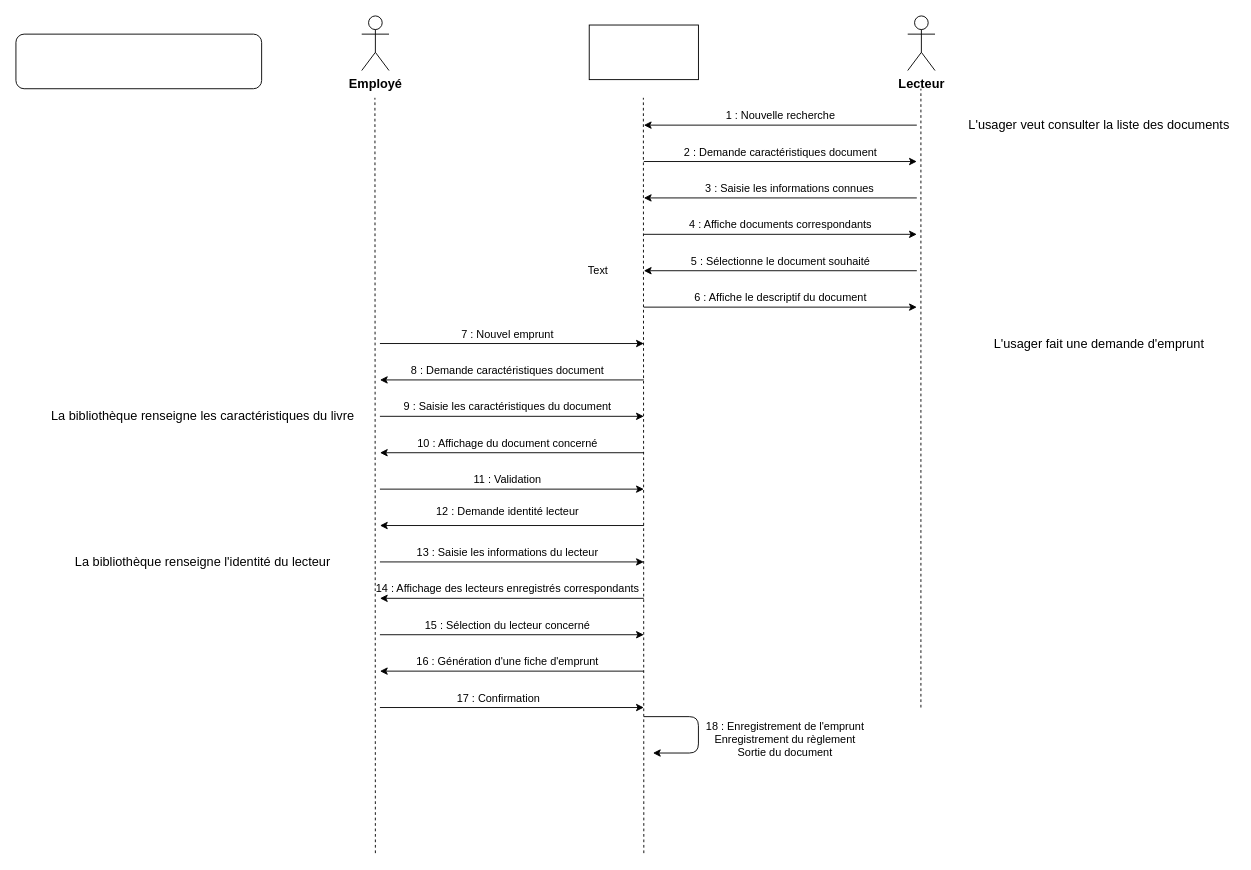
Some shapes in this 1251 by 870 pixel diagram are drawn without their labels. Here are the shapes that lost their labels. From the top down, the centre of each, then its label:
pixel 138 61: Scénario Médiathèque
pixel 643 52: :système
